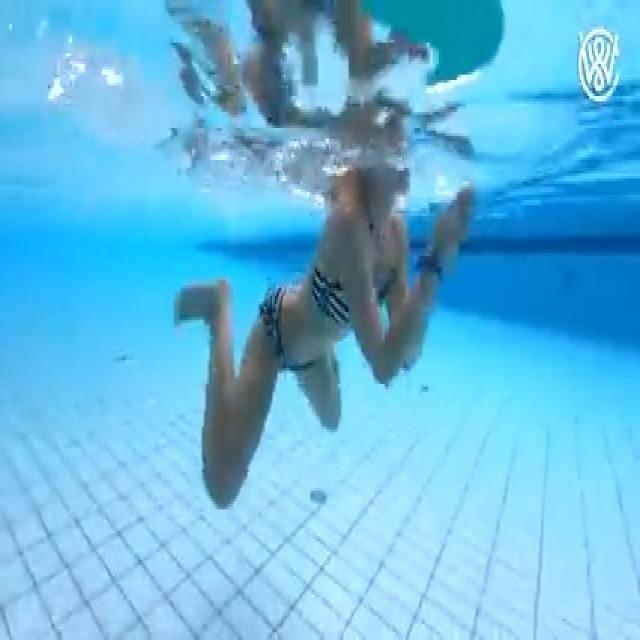Swimming: (176, 165, 476, 512)
